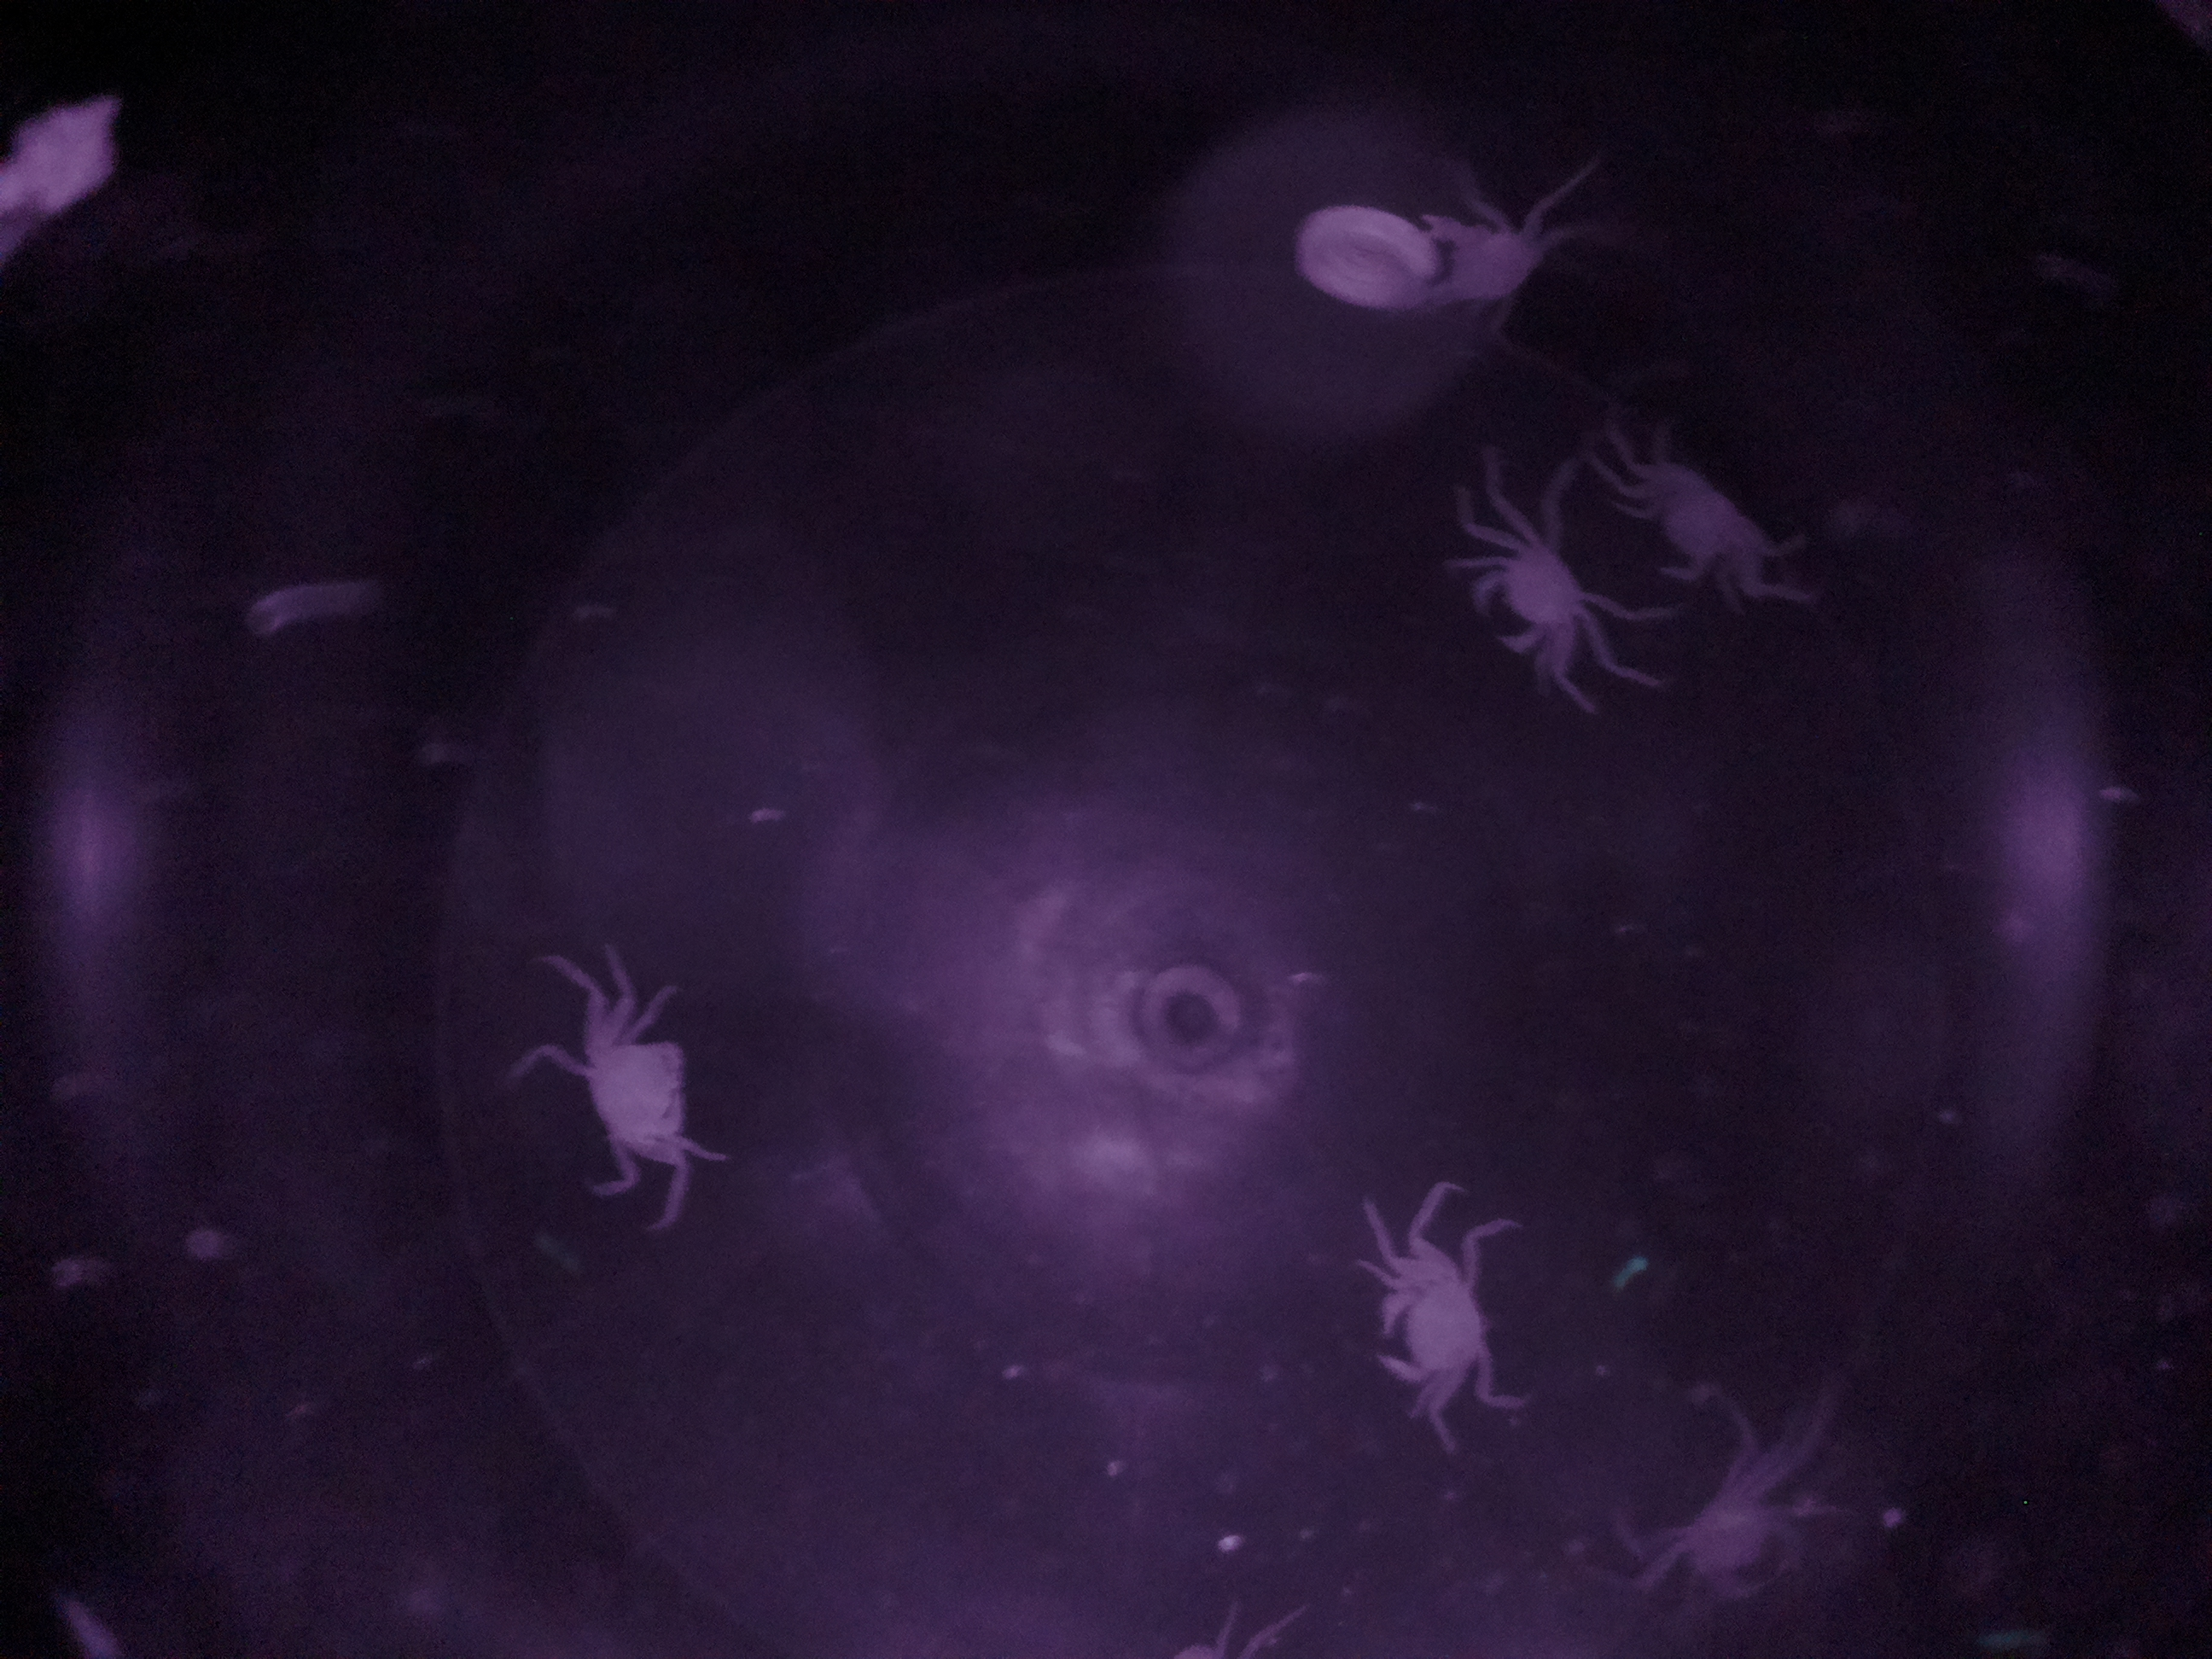Crab: (538, 976, 709, 1206), (1359, 1232, 1514, 1439), (1460, 498, 1613, 699)
